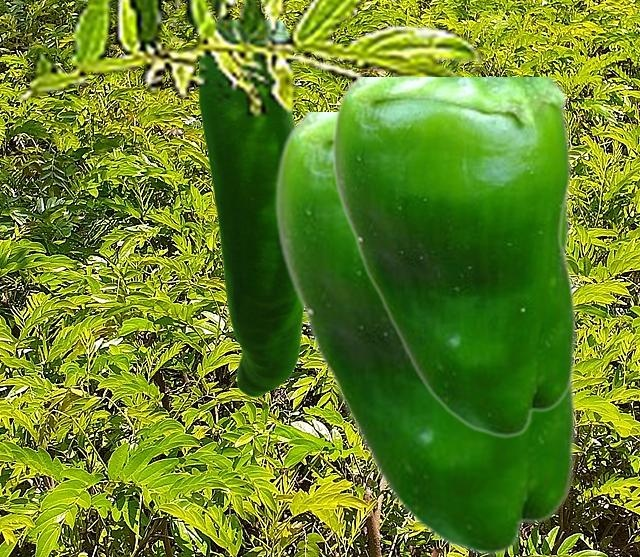green_chili: (273, 112, 575, 555), (330, 77, 575, 437), (198, 20, 303, 396)
